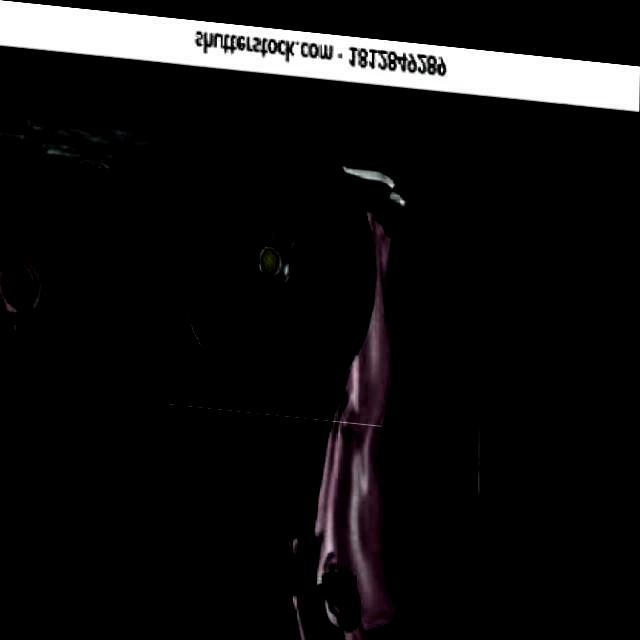barbell: (168, 103, 384, 419)
